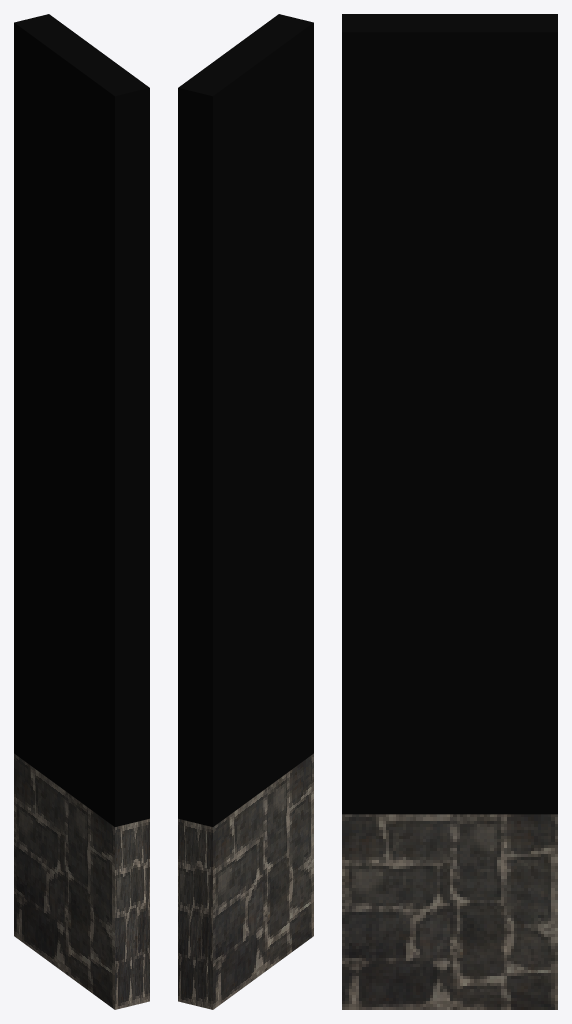
File: door1.gltf
3 renders of one model, left to right at view 1: azimuth 30°, elevation 25°; view 2: azimuth 150°, elevation 25°; view 3: azimuth 270°, elevation 25°, orthographic. The views are drawn at different scales.
Visible parts, largest first — view 1: Cube.007, Cube.006; view 2: Cube.006, Cube.007; view 3: Cube.006, Cube.007.
Part boxes in pixels (box(x1,y1,x2,y2)): Cube.007: box(64, 51, 149, 1009); Cube.006: box(14, 14, 98, 972); Cube.006: box(178, 51, 263, 1009); Cube.007: box(229, 14, 313, 972); Cube.006: box(450, 14, 557, 1009); Cube.007: box(342, 14, 449, 1009).
Bounding box in the file's own units: 0.4 × 10 × 2.
Materials: 2 (1 with a texture image).
